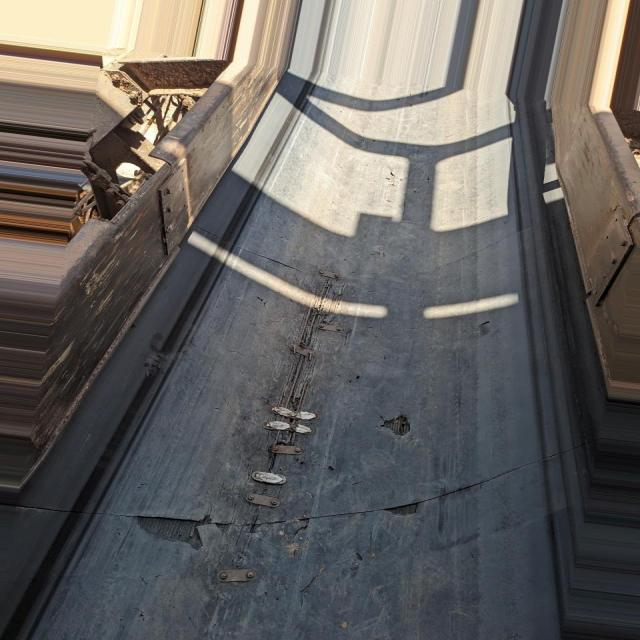Tear: (109, 467, 545, 553), (245, 243, 301, 277), (381, 414, 414, 440), (475, 321, 497, 340)
patch work: (240, 259, 359, 507), (198, 551, 264, 599)
